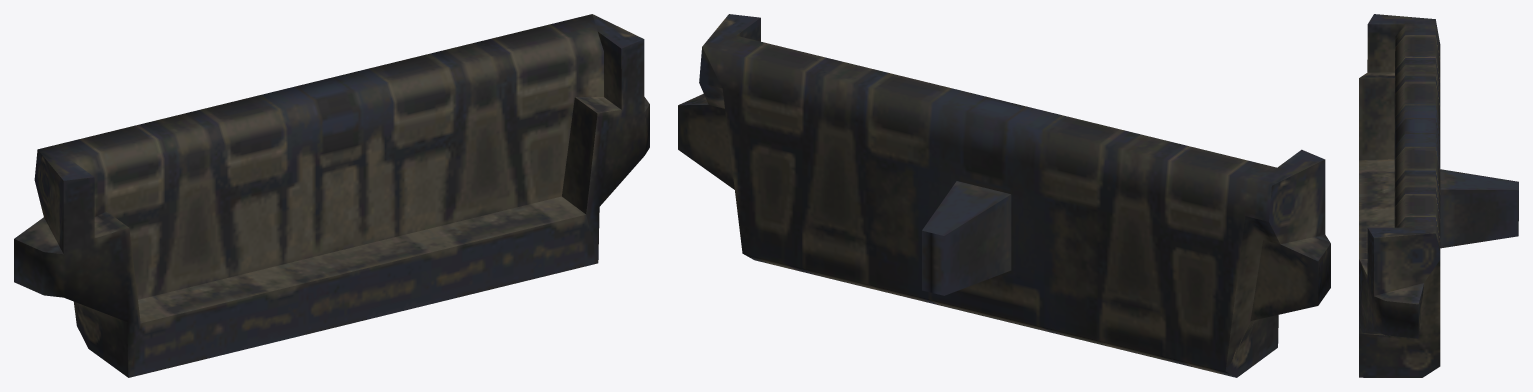
The picture shows the model from 3 angles, left to right: view 1: azimuth 30°, elevation 25°; view 2: azimuth 150°, elevation 25°; view 3: azimuth 270°, elevation 25°; orthographic projection. The views are drawn at different scales.
Parts seen in each view (by area): view 1: set_0_group_0; view 2: set_0_group_0; view 3: set_0_group_0.
Boxes of the visible parts, x1,y1,x2,y2 form: set_0_group_0: [14, 14, 649, 377]; set_0_group_0: [678, 14, 1330, 377]; set_0_group_0: [1359, 14, 1518, 377].
Bounding box in the file's own units: 0.695 × 0.2172 × 0.1951.
Materials: 1 (1 with a texture image).
